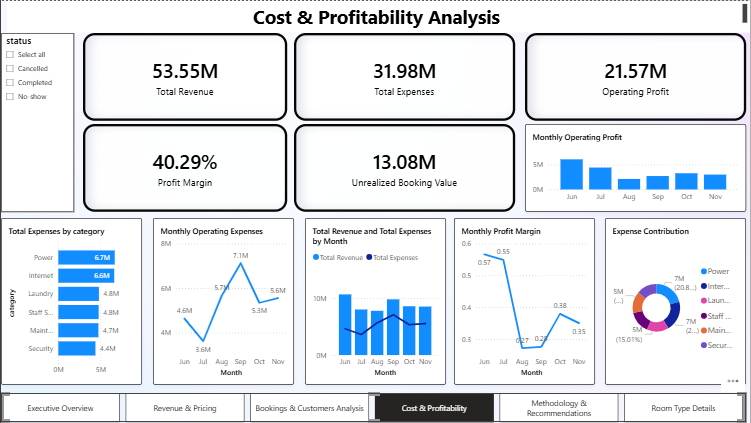

The page's visual inventory and layout, read from the dashboard file:
{"tool":"powerbi","page":{"name":"Cost & Profitability","canvas":[1280,720],"ordinal":3},"visuals":[{"type":"textbox","box":[9.5,0,1270.3,54.1],"z":0},{"type":"card","fields":{"Values":["Date.Total Revenue"]},"box":[140.1,54.7,348.6,150.4],"z":1000},{"type":"card","fields":{"Values":["Date.Total Expenses"]},"box":[500.7,54.7,377.7,150.4],"z":2000},{"type":"card","fields":{"Values":["Date.Operating Profit"]},"box":[895.5,54.7,377.7,150.4],"z":3000},{"type":"card","fields":{"Values":["Date.Profit Margin"]},"box":[140.1,210.2,348.6,150.4],"z":4000},{"type":"clusteredBarChart","fields":{"Category":["expenses.category"],"Y":["Date.Total Expenses"]},"box":[0,371.6,240.5,285.1],"z":5000},{"type":"lineChart","title":"Monthly Operating Expenses","fields":{"Category":["Date.Month"],"Y":["Date.Total Expenses"]},"box":[259.5,371.6,240.5,285.1],"z":6000},{"type":"clusteredColumnChart","title":"Monthly Operating Profit","fields":{"Category":["Date.Month"],"Y":["Date.Operating Profit"]},"box":[894.9,210.1,377.6,149.9],"z":7000},{"type":"lineStackedColumnComboChart","fields":{"Category":["Date.Month"],"Y":["Date.Total Revenue"],"Y2":["Date.Total Expenses"]},"box":[520.3,371.6,240.5,285.1],"z":8000},{"type":"donutChart","title":"Expense Contribution","fields":{"Category":["expenses.category"],"Y":["Date.Total Expenses"]},"box":[1032.4,371.6,240.5,285.1],"z":9000},{"type":"lineChart","title":"Monthly Profit Margin","fields":{"Category":["Date.Month"],"Y":["Date.Profit Margin"]},"box":[774.3,371.6,240.5,285.1],"z":10000},{"type":"card","fields":{"Values":["Date.Unrealized Booking Value"]},"box":[500.7,210.2,377.7,150.4],"z":11000},{"type":"pageNavigator","box":[0,670.3,1273,50],"z":12000},{"type":"slicer","fields":{"Values":["bookings.status"]},"box":[0,54.7,124.8,305.9],"z":13000}]}

Visuals, with their boxes in screenshot pixels (x1, y1, x2, y2), scaled from the page's 1280x720 canvas onto the 751x423 screenshot:
textbox: x1=6, y1=0, x2=750, y2=32
card - Date.Total Revenue: x1=82, y1=32, x2=287, y2=120
card - Date.Total Expenses: x1=294, y1=32, x2=515, y2=120
card - Date.Operating Profit: x1=525, y1=32, x2=747, y2=120
card - Date.Profit Margin: x1=82, y1=123, x2=287, y2=212
clusteredBarChart - expenses.category x Date.Total Expenses: x1=0, y1=218, x2=141, y2=386
"Monthly Operating Expenses" lineChart: x1=152, y1=218, x2=293, y2=386
"Monthly Operating Profit" clusteredColumnChart: x1=525, y1=123, x2=747, y2=212
lineStackedColumnComboChart - Date.Month x Date.Total Revenue: x1=305, y1=218, x2=446, y2=386
"Expense Contribution" donutChart: x1=606, y1=218, x2=747, y2=386
"Monthly Profit Margin" lineChart: x1=454, y1=218, x2=595, y2=386
card - Date.Unrealized Booking Value: x1=294, y1=123, x2=515, y2=212
pageNavigator: x1=0, y1=394, x2=747, y2=422
slicer - bookings.status: x1=0, y1=32, x2=73, y2=212
